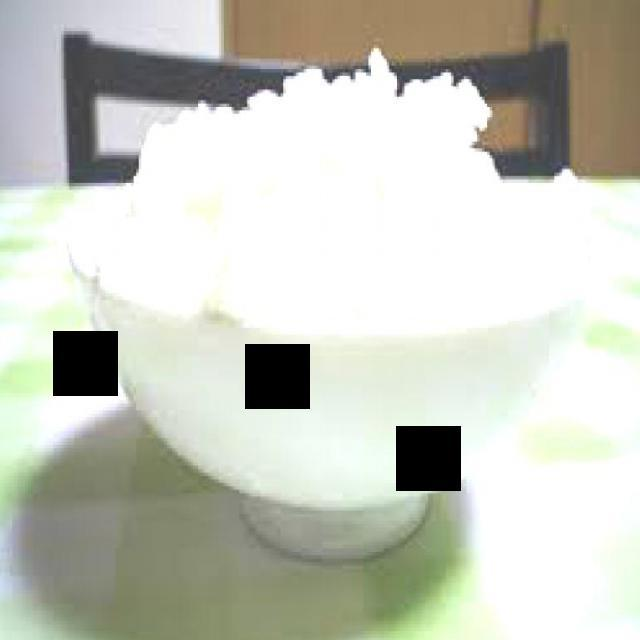rice: (95, 69, 591, 322)
